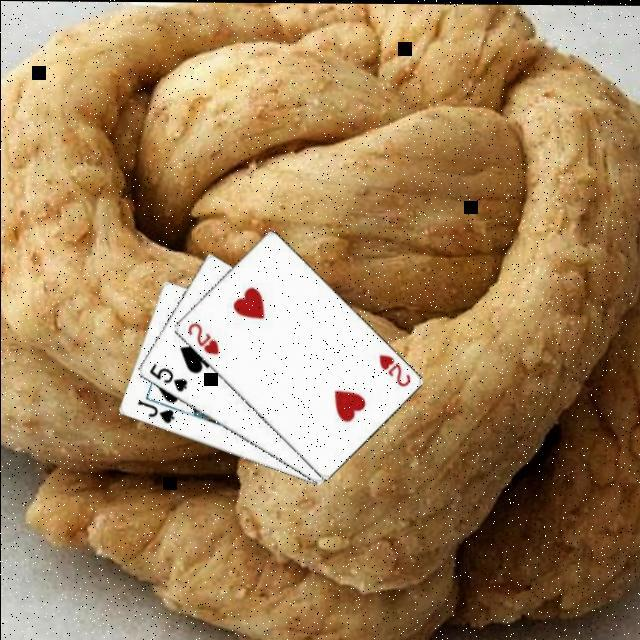2H: (373, 348, 411, 387), (182, 318, 220, 356)
5S: (143, 358, 188, 392)
JS: (133, 396, 175, 424)
